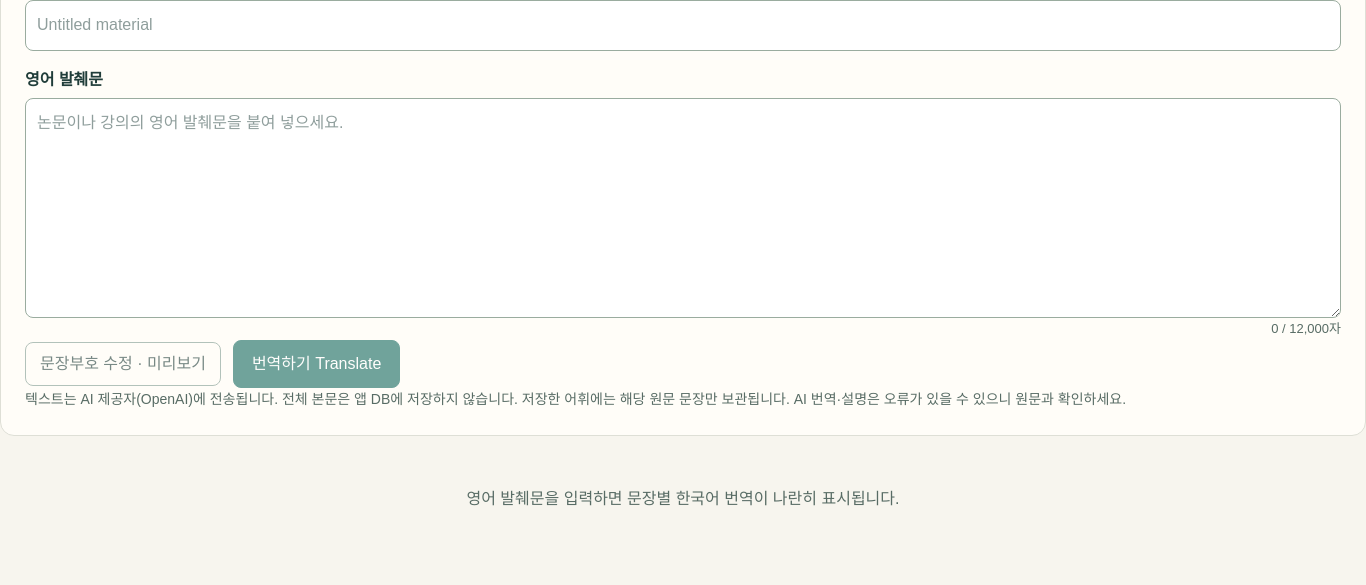
Test case: real reading component with mocked HTTP integration › explanation failure offers retry and does not save
In the text box labelled "영어 발췌문": (683, 208) [25, 98, 1341, 318], type "The result is significant."
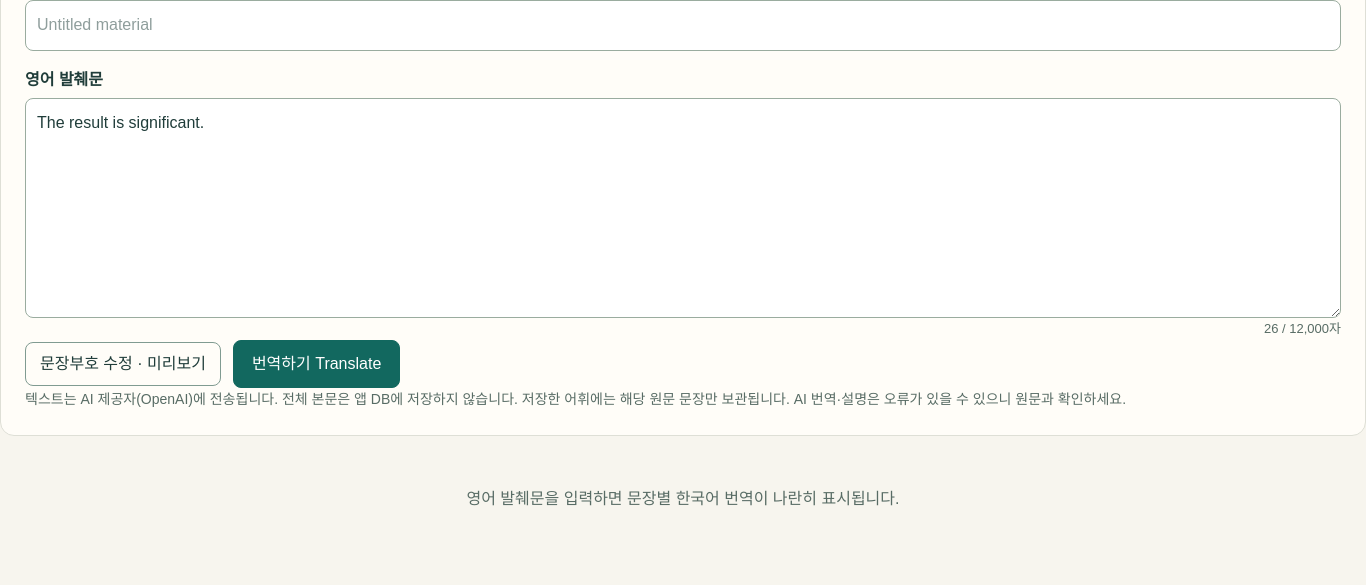
Click the button "번역하기 Translate": (317, 364) [233, 340, 400, 388]
(page scrolled)
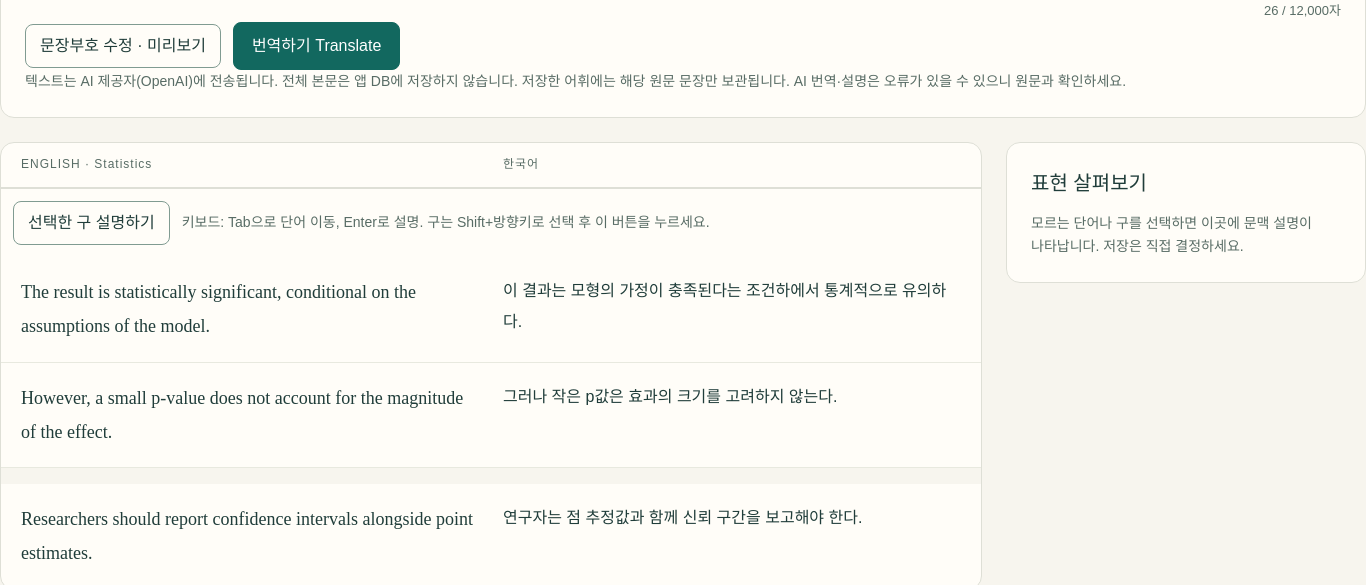
Now the button with aria-label "significant 설명 보기" is shown
Click the button with aria-label "significant 설명 보기": (241, 292) [201, 275, 282, 309]
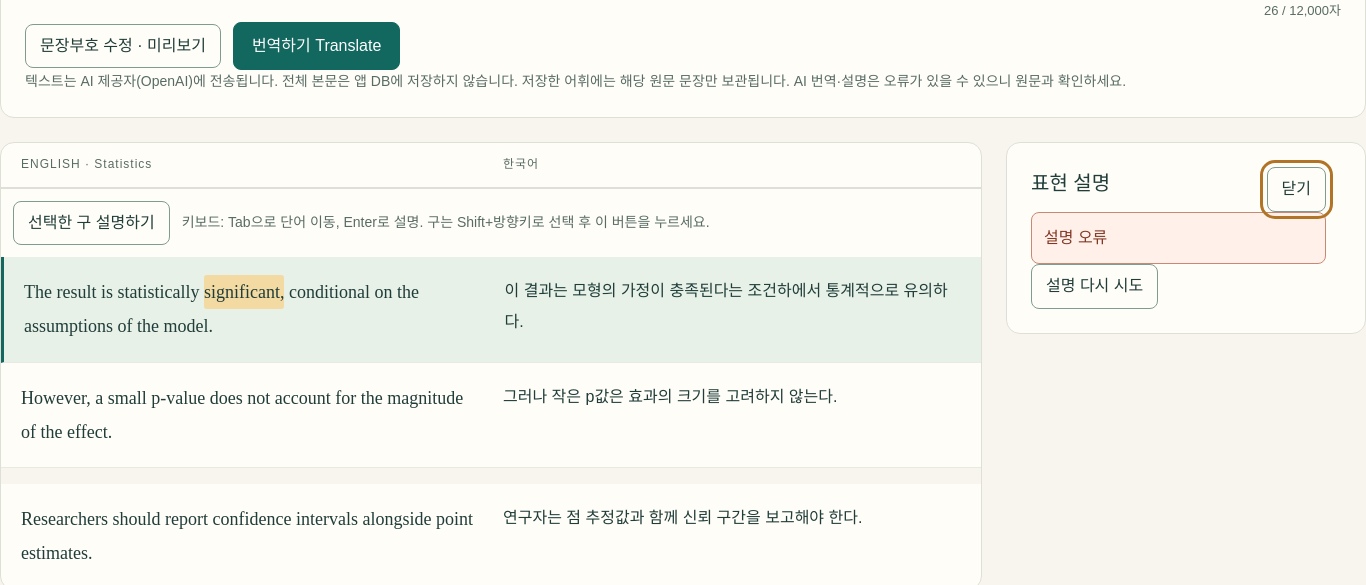
Now the text "설명 오류" is shown, box [1031, 212, 1326, 264]
Click the button "설명 다시 시도": (1095, 287) [1031, 264, 1158, 309]
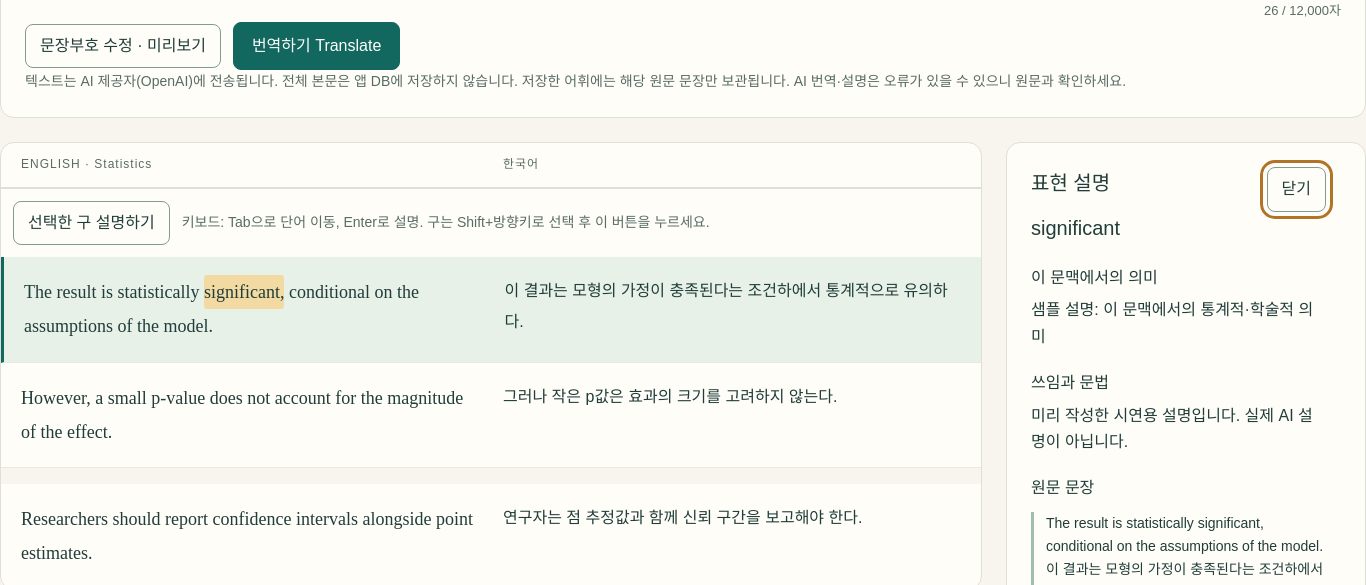
Now the heading "이 문맥에서의 의미" is shown, box [1031, 269, 1158, 286]
